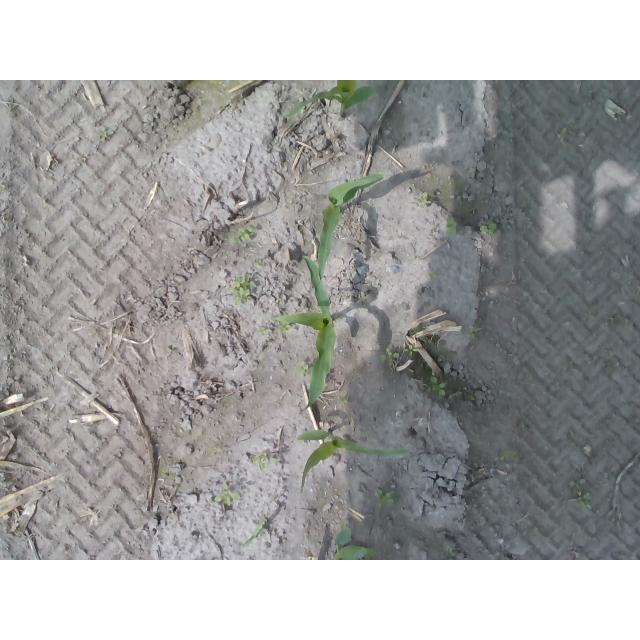Maize: (271, 253, 337, 409), (297, 428, 412, 492), (317, 173, 384, 279), (286, 80, 377, 120), (334, 526, 375, 560)
Weeds: (568, 477, 593, 510), (222, 223, 256, 245), (231, 274, 257, 302), (215, 484, 242, 507), (377, 488, 398, 509), (427, 375, 445, 397), (385, 350, 400, 366), (480, 222, 497, 235), (403, 343, 417, 357), (419, 192, 430, 209), (447, 217, 457, 235), (297, 362, 312, 374), (95, 126, 109, 138), (256, 324, 271, 334), (253, 527, 266, 537), (280, 321, 291, 331), (337, 397, 348, 406), (468, 327, 477, 337)
